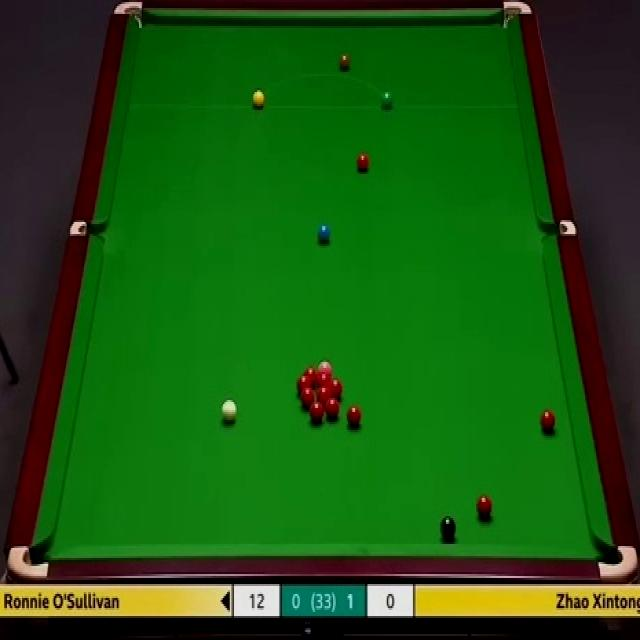black-ball: (440, 516, 457, 542)
blue-ball: (316, 222, 331, 245)
brown-ball: (338, 54, 351, 74)
green-ball: (379, 91, 395, 112)
pink-ball: (318, 361, 332, 372)
red-ball: (476, 495, 494, 520), (355, 151, 371, 174), (540, 411, 556, 434), (324, 398, 339, 421), (347, 407, 362, 428), (310, 402, 324, 423), (301, 388, 314, 409), (297, 375, 313, 392), (304, 369, 318, 387), (329, 379, 342, 398), (316, 371, 328, 387), (318, 387, 331, 401)
white-ball: (221, 400, 236, 421)
yellow-ball: (252, 90, 265, 110)
